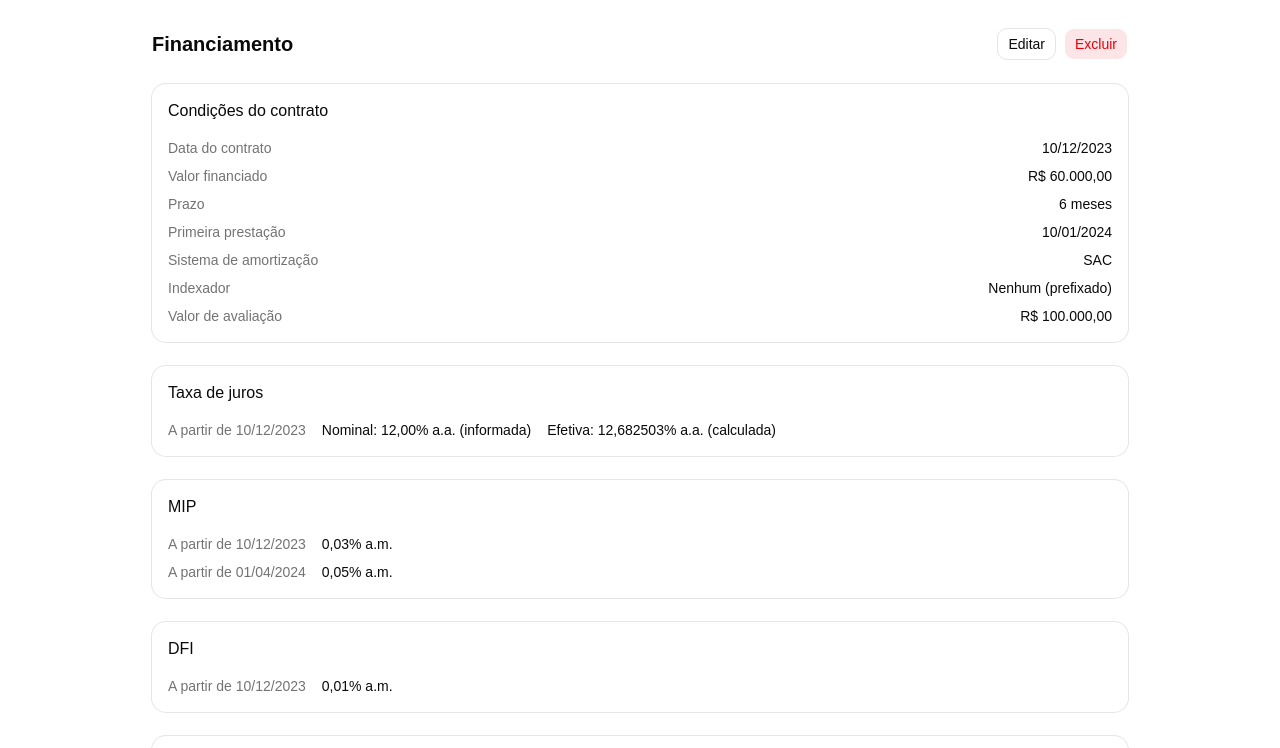
it: editing the mortgage › prefills the form with the registered mortgage and sends the edited one
The image size is (1280, 748).
Click the link "Editar". click: (1027, 44)
box: [997,28,1056,60]
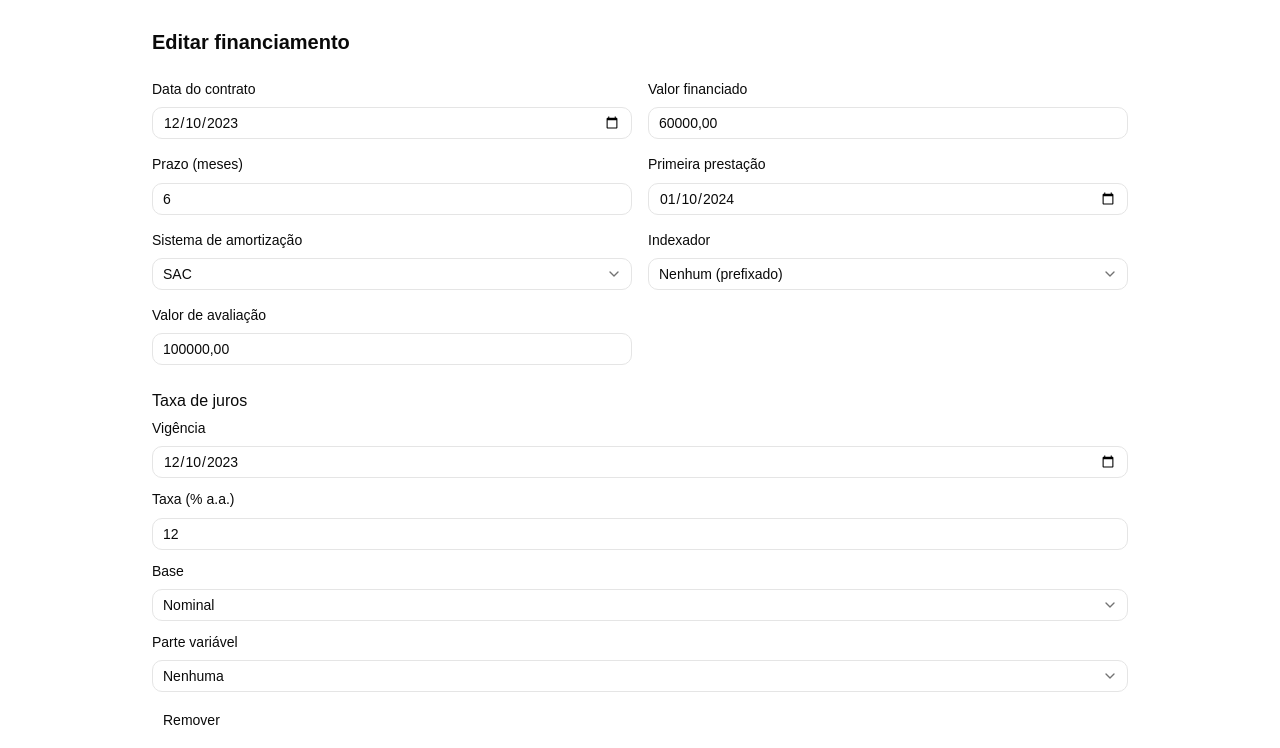
expect the heading "Editar financiamento" is shown: met, box [152,31,350,53]
expect the date field labelled "Data do contrato" holds "2023-12-10": met, box [152,107,632,139]
expect the field labelled "Valor financiado" holds "60000,00": met
Replace the text in the field labelled "Valor financiado" with "250.000,00". click: (888, 123)
box: [648,107,1128,139]
(page scrolled)
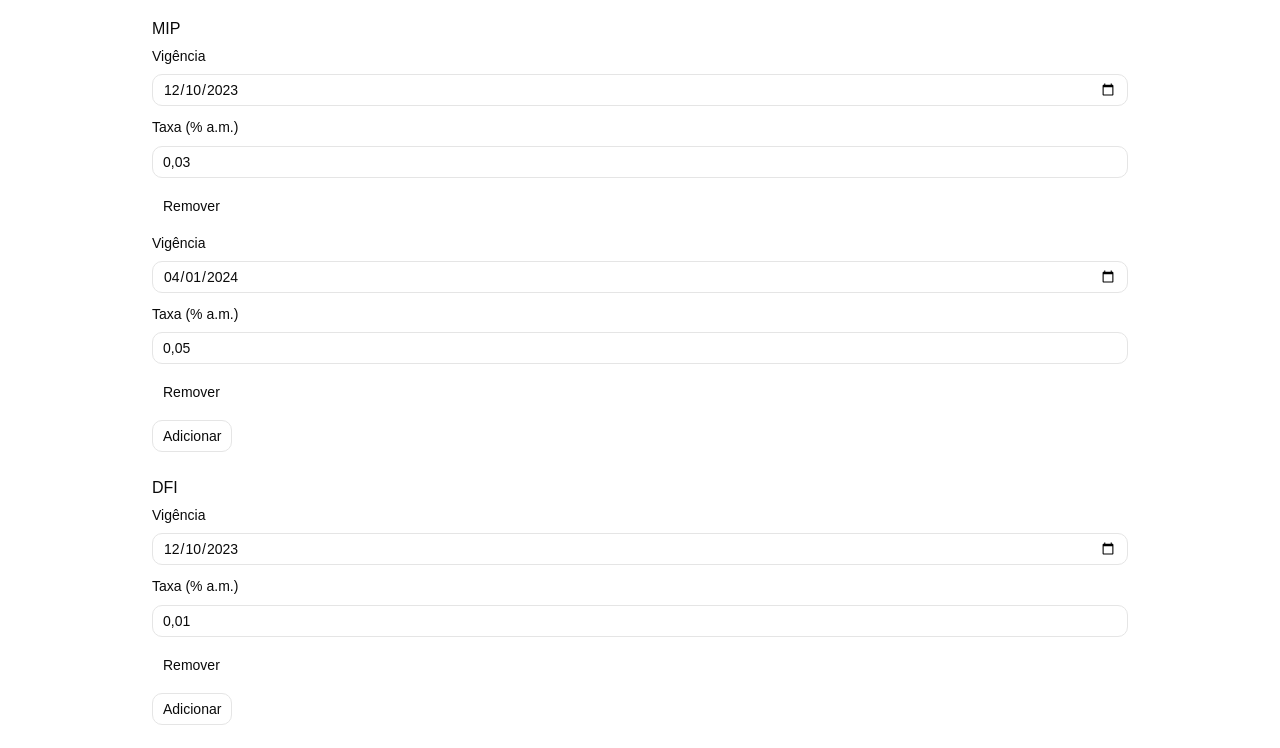
Replace the text in the field named "Taxa do MIP 2 (% a.m.)" with "0,06". click: (640, 348)
box: [152,332,1128,364]
(page scrolled)
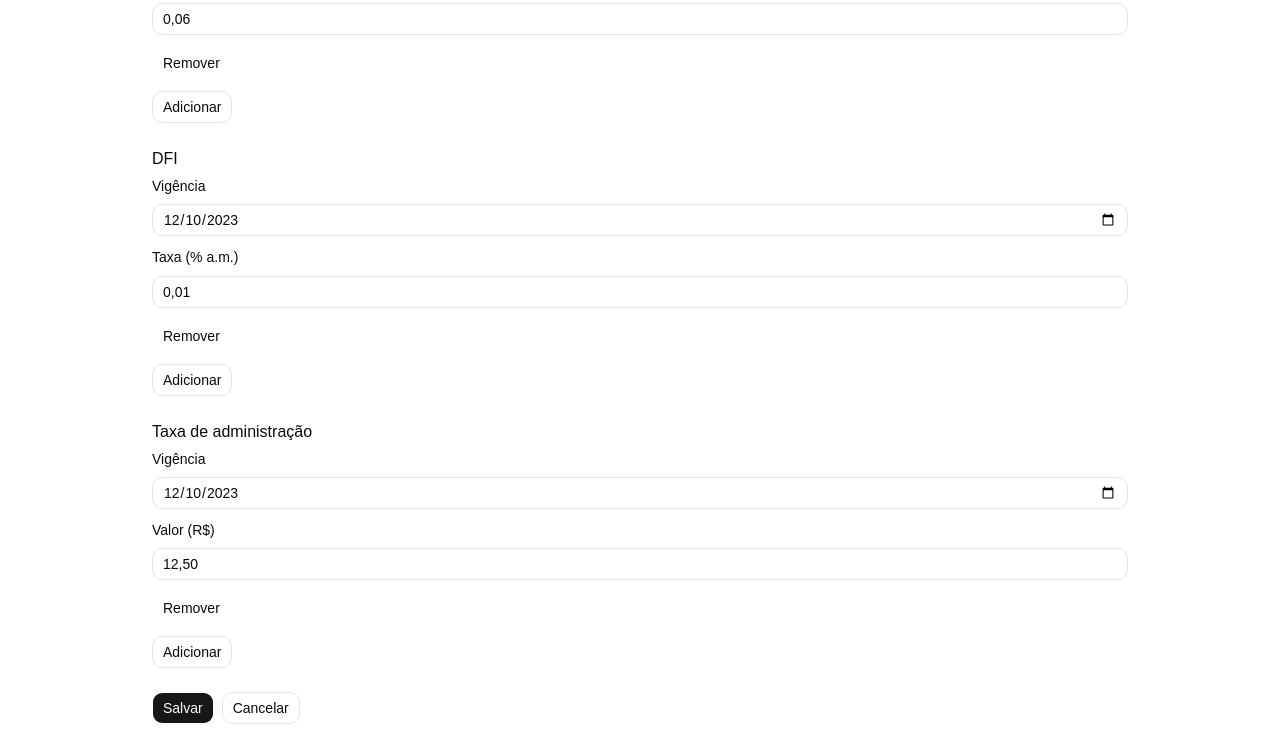
Click the button "Salvar". click: (183, 708)
box: [152,692,214,724]
(page scrolled)
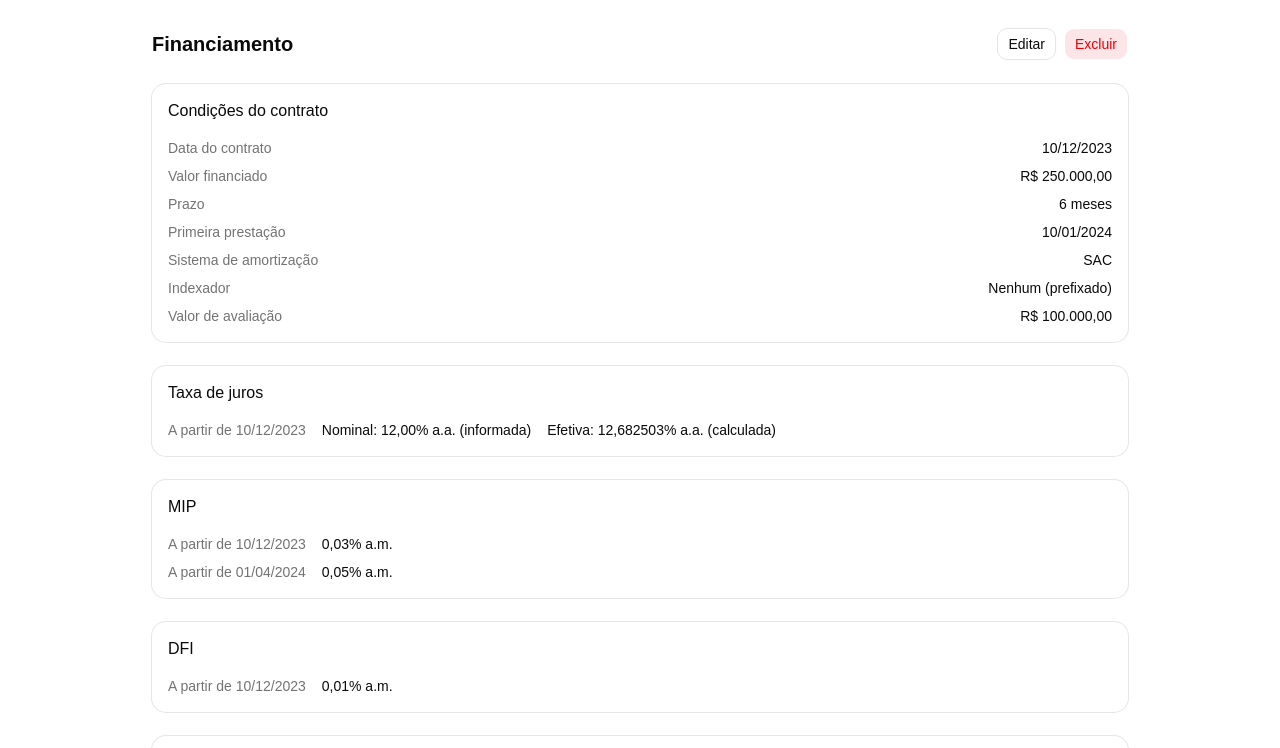
expect the text "R$ 250.000,00" is shown: met, box [1020,166,1112,186]
